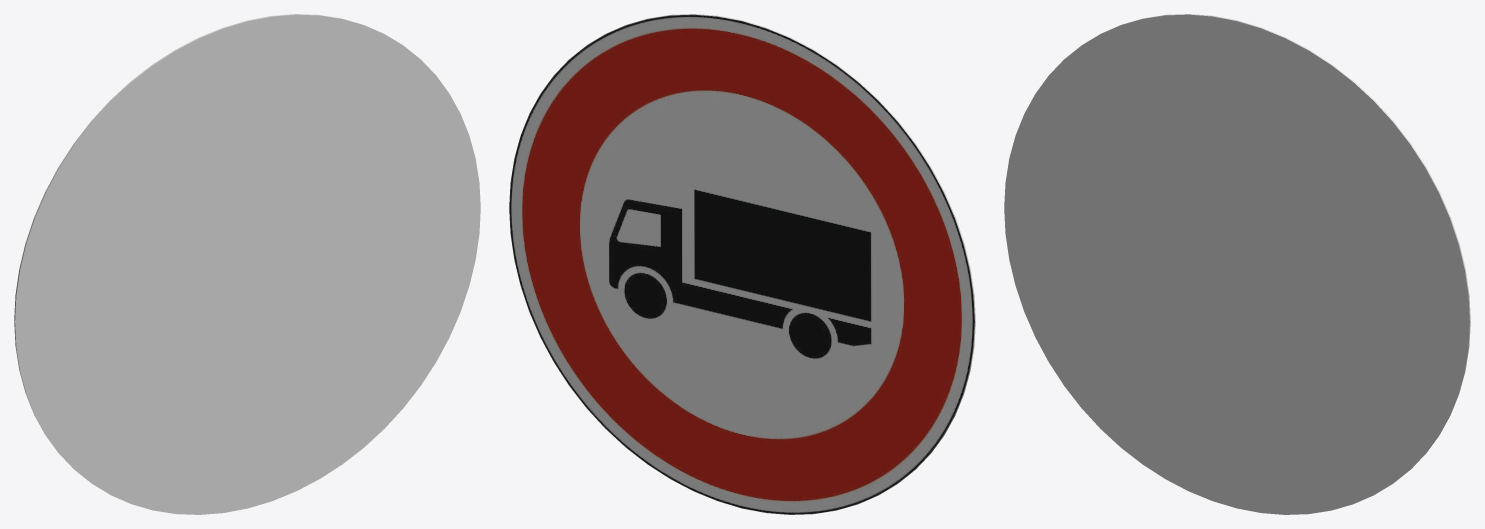
3 renders of one model, left to right at view 1: azimuth 30°, elevation 25°; view 2: azimuth 150°, elevation 25°; view 3: azimuth 330°, elevation 25°, orthographic.
Visible parts, largest first — view 1: Circle; view 2: Circle; view 3: Circle.
Boxes of the visible parts, box(x1,y1,x2,y2) form: Circle: box(14, 14, 480, 514); Circle: box(509, 14, 975, 514); Circle: box(1004, 14, 1470, 514).
Size of the model in its own units: 0.6 by 0.6 by 0.002.
2 materials, 1 textured.
